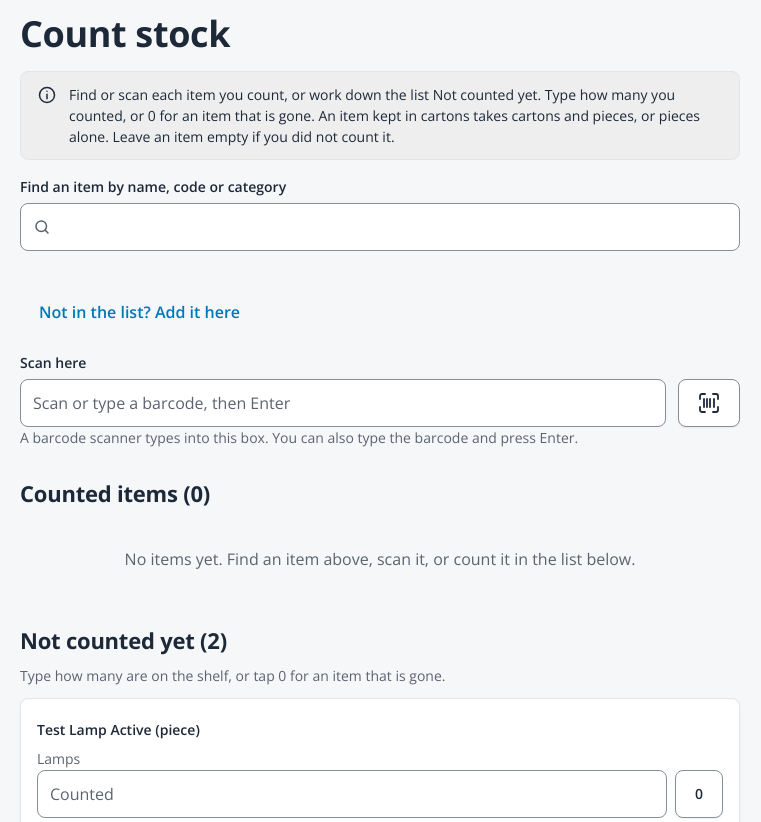
Scenario: the count sheet › keeps an inactive item that holds stock and leaves out one that holds none
The width and height of the screenshot is (761, 822).
Expected: the text "No items yet. Find an item above, scan it, or count it in the list below." is shown, [125,548,635,570]
Expected: the field with id "count-A-1" is shown, [37,770,667,818]
Type "test lamp" into the dropdown labelled "Find an item by name, code or category".
click(380, 227); type("test lamp")  # box [20,203,740,251]
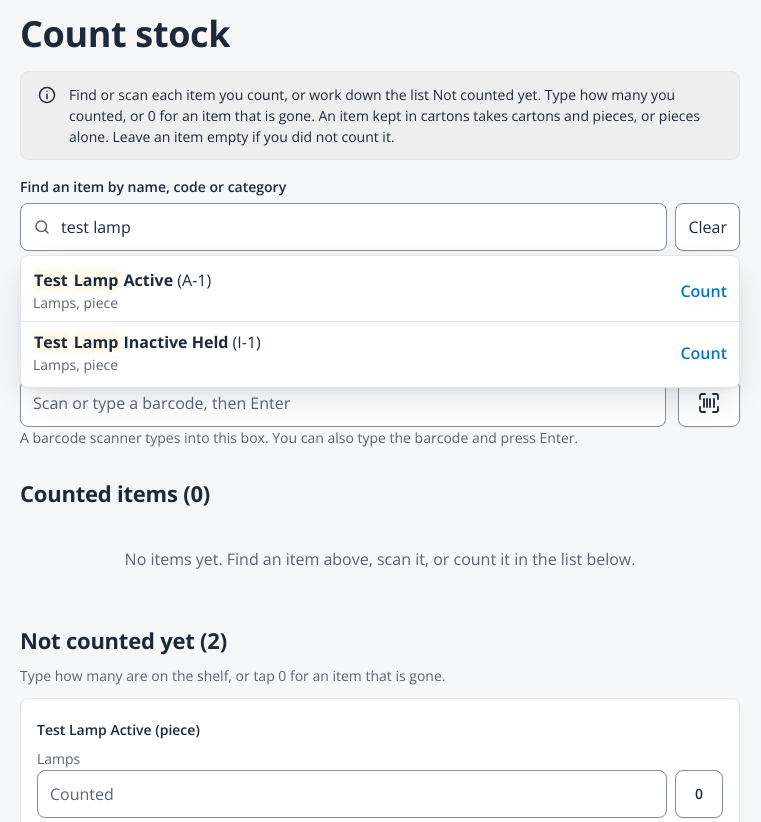
Expected: the option "Test Lamp Active (A-1) Lamps, piece Count" is shown, [21,260,739,321]
Expected: the option "Test Lamp Inactive Held (I-1) Lamps, piece Count" is shown, [21,321,739,383]
